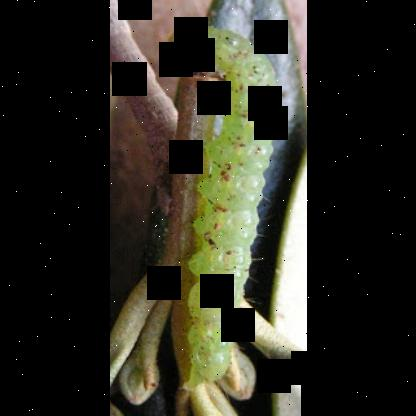oruga: (152, 18, 279, 392)
